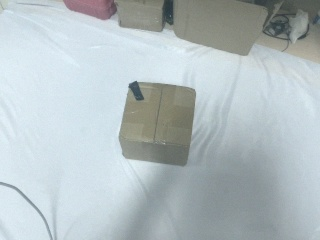box: (119, 80, 196, 166), (171, 1, 282, 57), (111, 1, 172, 32), (56, 1, 115, 22)
